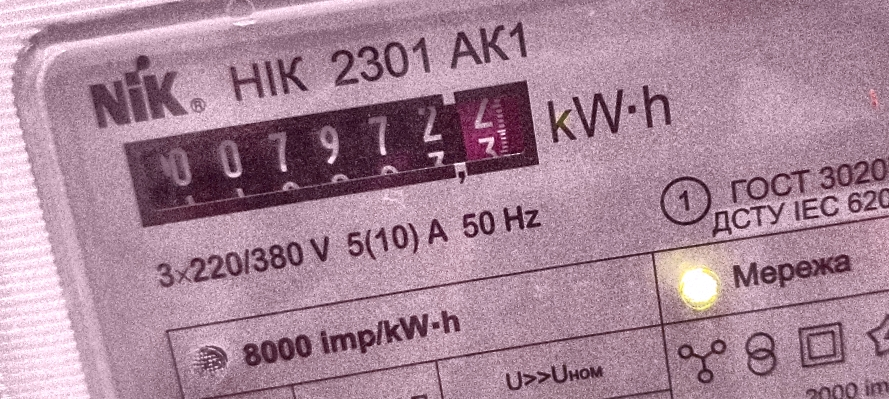0: (164, 143, 195, 188), (215, 135, 245, 180)
2: (415, 103, 444, 144), (466, 95, 494, 132)
3: (474, 132, 499, 160)
7: (364, 111, 395, 160), (264, 127, 294, 175)
9: (314, 120, 343, 166)
screen: (105, 65, 559, 244)
